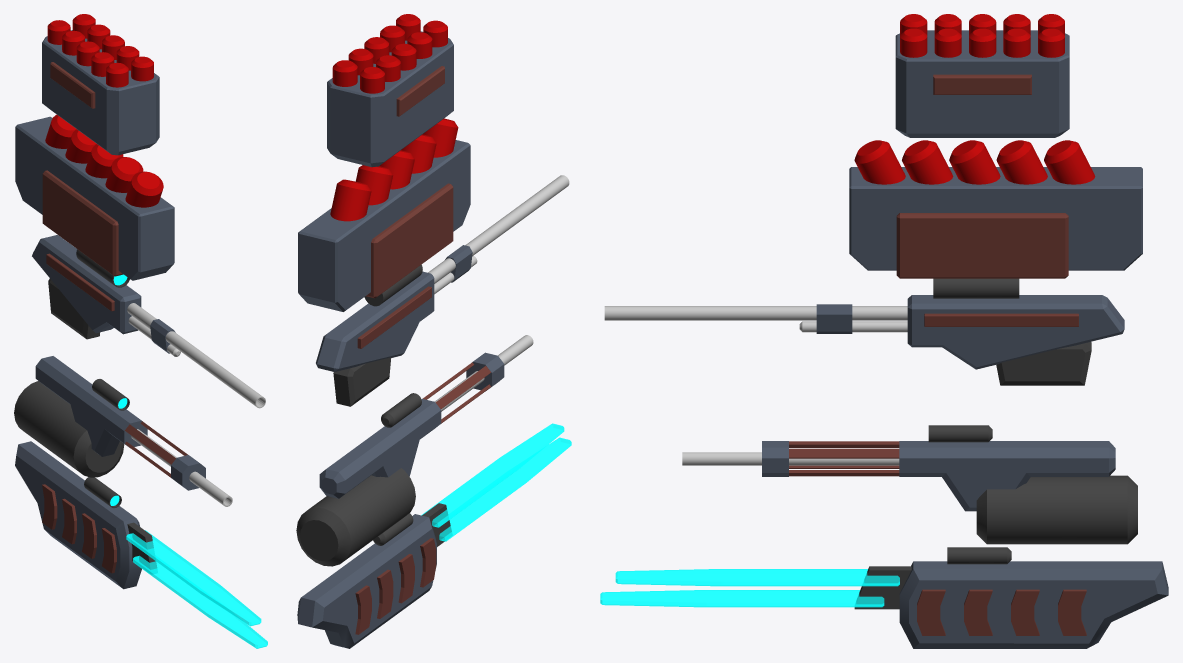
File: DroneWeapons.fbx
The picture shows the model from 3 angles, left to right: view 1: azimuth 30°, elevation 25°; view 2: azimuth 150°, elevation 25°; view 3: azimuth 270°, elevation 25°; orthographic projection. The views are drawn at different scales.
Parts seen in each view (by area): view 1: pCube33, pCube35, pCube11, pCylinder10, pCube34, pCube20, pCube25, pCube15, pCube16, pCube13, pCylinder7, pCylinder55 (+24 smaller); view 2: pCube33, pCube35, pCube11, pCylinder10, pCube34, pCube25, pCube20, pCube15, pCube13, pCube16, pCylinder7, pCube14 (+24 smaller); view 3: pCube33, pCube11, pCube35, pCube34, pCylinder10, pCube25, pCube20, pCube16, pCube15, pCube13, pCylinder7, pCube14 (+15 smaller).
Boxes of the visible parts, bbox=[...] form: pCube33: bbox=[15, 116, 174, 280]; pCube35: bbox=[42, 30, 159, 155]; pCube11: bbox=[15, 441, 141, 589]; pCylinder10: bbox=[14, 381, 124, 477]; pCube34: bbox=[42, 170, 123, 276]; pCube20: bbox=[35, 356, 147, 456]; pCube25: bbox=[32, 235, 141, 334]; pCube15: bbox=[126, 530, 261, 626]; pCube16: bbox=[133, 555, 267, 648]; pCube13: bbox=[42, 484, 116, 573]; pCylinder7: bbox=[127, 303, 265, 408]; pCylinder55: bbox=[125, 171, 163, 207]; pCube33: bbox=[298, 140, 470, 311]; pCube35: bbox=[327, 31, 453, 167]; pCube11: bbox=[297, 514, 436, 648]; pCylinder10: bbox=[296, 468, 415, 566]; pCube34: bbox=[366, 183, 453, 298]; pCube25: bbox=[316, 271, 434, 371]; pCube20: bbox=[319, 398, 441, 498]; pCube15: bbox=[421, 423, 564, 527]; pCube13: bbox=[355, 538, 436, 634]; pCube16: bbox=[439, 437, 571, 541]; pCylinder7: bbox=[428, 175, 569, 283]; pCube14: bbox=[333, 357, 391, 406]; pCube33: bbox=[849, 167, 1142, 270]; pCube11: bbox=[899, 561, 1168, 648]; pCube35: bbox=[895, 30, 1069, 137]; pCube34: bbox=[896, 213, 1068, 278]; pCylinder10: bbox=[976, 475, 1137, 544]; pCube25: bbox=[907, 295, 1124, 369]; pCube20: bbox=[899, 441, 1115, 511]; pCube16: bbox=[600, 590, 884, 607]; pCube15: bbox=[615, 569, 899, 586]; pCube13: bbox=[917, 589, 1086, 635]; pCylinder7: bbox=[604, 306, 907, 320]; pCube14: bbox=[996, 342, 1091, 385].
Bounding box in the file's own units: 2.73 × 22.72 × 18.88.
